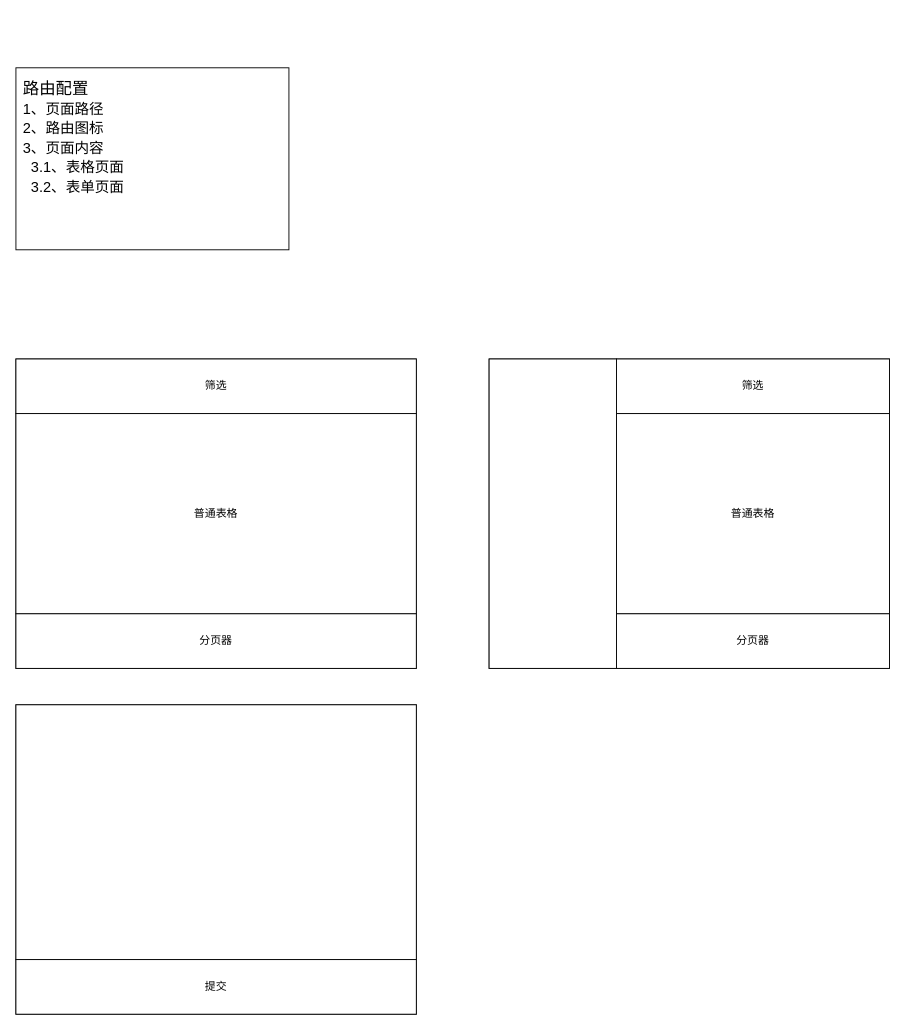
Some shapes in this 905 by 1030 pixel diagram are drawn without their labels. Each missing label, with the centre of its shape:
"树结构" belongs at [552,513].
"表单" belongs at [215,832].
